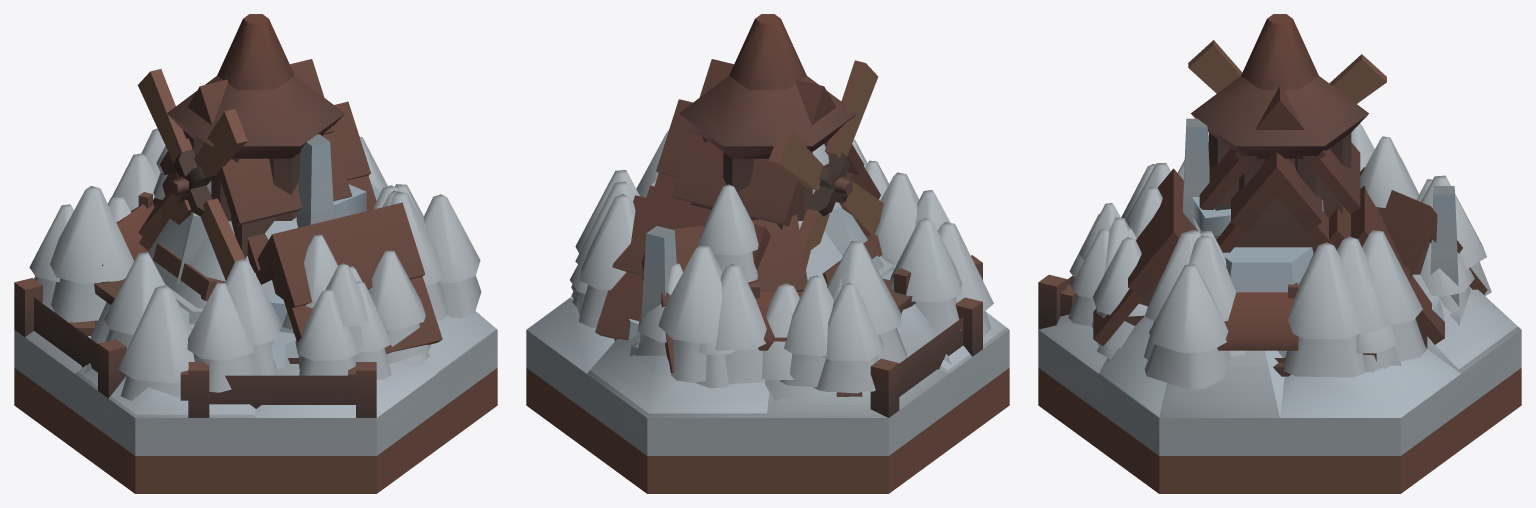
Rendered from kenney-hex.glb.
3 views of the same model, side by side, from view 1: azimuth 30°, elevation 25°; view 2: azimuth 150°, elevation 25°; view 3: azimuth 270°, elevation 25° (orthographic).
Visible parts, largest first — view 1: grass-forest, building-village, grass, building-cabin, building-tower, stone-hill, building-mill, grass-hill, rotate-x, building-mine, dirt-lumber, building-smelter (+4 smaller); view 2: grass-forest, grass, building-tower, building-cabin, stone-hill, building-mill, building-smelter, building-village, building-house, building-market, rotate-x, building-mine (+4 smaller); view 3: building-market, building-cabin, building-village, building-tower, building-smelter, grass, grass-forest, stone-rocks, stone-hill, building-mill, dirt, grass-hill (+5 smaller).
Boxes of the visible parts, bbox=[...] form: grass-forest: bbox=[14, 186, 494, 493]; building-village: bbox=[14, 137, 442, 417]; grass: bbox=[14, 332, 497, 493]; building-cabin: bbox=[25, 101, 497, 473]; building-tower: bbox=[16, 14, 398, 493]; stone-hill: bbox=[14, 215, 496, 493]; building-mill: bbox=[141, 59, 492, 493]; grass-hill: bbox=[14, 145, 497, 493]; rotate-x: bbox=[138, 69, 247, 280]; building-mine: bbox=[81, 153, 497, 483]; dirt-lumber: bbox=[85, 196, 497, 482]; building-smelter: bbox=[29, 172, 481, 317]; grass-forest: bbox=[527, 172, 1009, 493]; grass: bbox=[526, 332, 1009, 493]; building-tower: bbox=[570, 14, 1006, 493]; building-cabin: bbox=[526, 99, 1009, 481]; stone-hill: bbox=[526, 209, 1009, 493]; building-mill: bbox=[542, 59, 950, 493]; building-smelter: bbox=[595, 130, 883, 396]; building-village: bbox=[571, 166, 982, 417]; building-house: bbox=[526, 185, 1008, 493]; building-market: bbox=[530, 194, 1007, 490]; rotate-x: bbox=[768, 60, 883, 268]; building-mine: bbox=[526, 160, 939, 482]; building-market: bbox=[1039, 230, 1521, 493]; building-cabin: bbox=[1039, 118, 1521, 485]; building-village: bbox=[1038, 168, 1487, 377]; building-tower: bbox=[1056, 14, 1493, 490]; building-smelter: bbox=[1144, 167, 1459, 389]; grass: bbox=[1041, 340, 1490, 493]; grass-forest: bbox=[1038, 124, 1521, 493]; stone-rocks: bbox=[1038, 299, 1521, 475]; stone-hill: bbox=[1046, 274, 1517, 493]; building-mill: bbox=[1038, 87, 1521, 471]; dirt: bbox=[1038, 368, 1521, 493]; grass-hill: bbox=[1038, 187, 1521, 493].
Size of the model in its own units: 1 by 1.02 by 1.15.
Materials: 1 (1 with a texture image).
